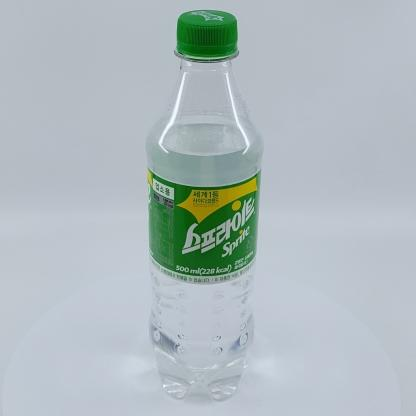-------500ML: (145, 9, 263, 400)
